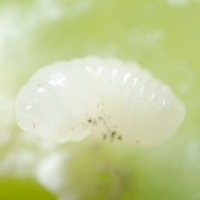insect: (16, 57, 184, 144)
